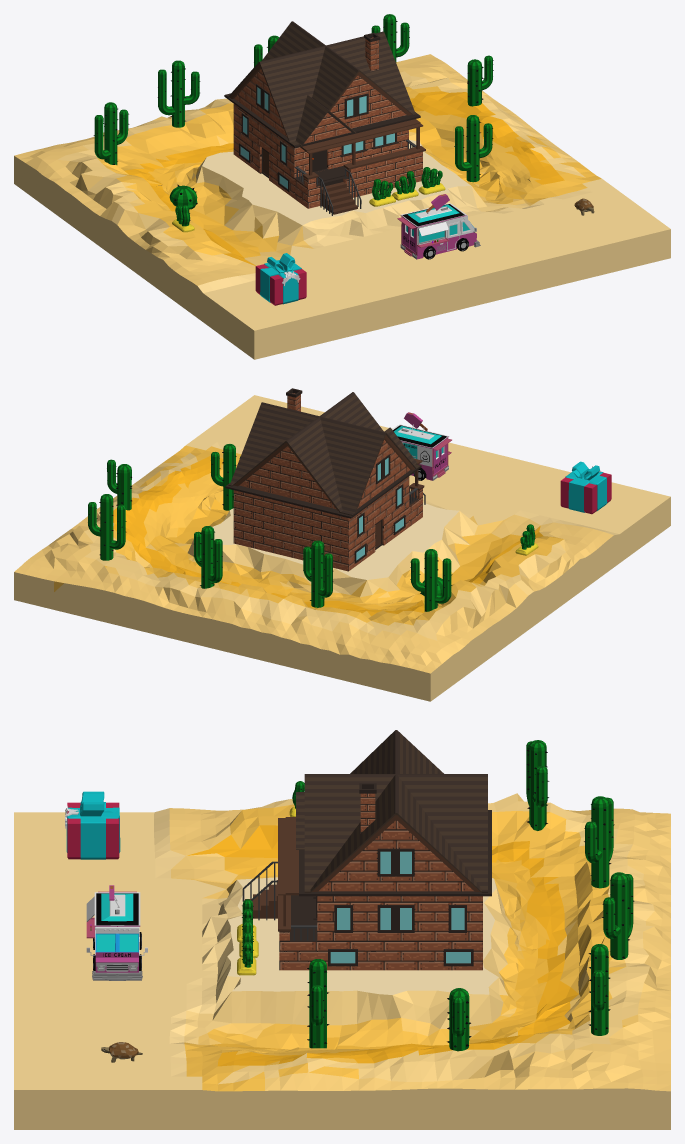
3 views of the same model, one above another, from view 1: azimuth 30°, elevation 25°; view 2: azimuth 150°, elevation 25°; view 3: azimuth 270°, elevation 25° (orthographic). The views are drawn at different scales.
Visible parts, largest first — view 1: Cube.001, Cube.469, VEHICLES_ICE_CREAM_TRUCK, OBJRANDOM_GIANT_PRESENT, Cylinder.037, Cylinder.044, Cylinder.045, Cylinder.038, Cylinder.042, Cylinder.039, Cylinder.041, Sphere.023 (+1 smaller); view 2: Cube.001, Cube.469, VEHICLES_ICE_CREAM_TRUCK, OBJRANDOM_GIANT_PRESENT, Cylinder.042, Cylinder.045, Cylinder.044, Cylinder.043, Cylinder.037, Cylinder.038; view 3: Cube.001, Cube.469, VEHICLES_ICE_CREAM_TRUCK, OBJRANDOM_GIANT_PRESENT, Cylinder.043, Cylinder.044, Cylinder.045, Cylinder.042, Cylinder.037, Cylinder.038, Cylinder.041.
Boxes of the visible parts, bbox=[...] form: Cube.001: bbox=[14, 54, 670, 359]; Cube.469: bbox=[224, 21, 425, 215]; VEHICLES_ICE_CREAM_TRUCK: bbox=[397, 194, 480, 259]; OBJRANDOM_GIANT_PRESENT: bbox=[255, 253, 306, 305]; Cylinder.037: bbox=[454, 115, 493, 182]; Cylinder.044: bbox=[157, 60, 200, 127]; Cylinder.045: bbox=[93, 102, 129, 164]; Cylinder.038: bbox=[467, 55, 493, 106]; Cylinder.042: bbox=[371, 14, 409, 62]; Cylinder.039: bbox=[369, 179, 395, 206]; Cylinder.041: bbox=[418, 167, 445, 194]; Sphere.023: bbox=[169, 184, 197, 209]; Cube.001: bbox=[14, 395, 670, 701]; Cube.469: bbox=[225, 388, 425, 571]; VEHICLES_ICE_CREAM_TRUCK: bbox=[392, 412, 451, 480]; OBJRANDOM_GIANT_PRESENT: bbox=[560, 461, 611, 514]; Cylinder.042: bbox=[88, 494, 126, 560]; Cylinder.045: bbox=[410, 549, 452, 611]; Cylinder.044: bbox=[303, 540, 333, 607]; Cylinder.043: bbox=[193, 526, 222, 588]; Cylinder.037: bbox=[211, 444, 240, 510]; Cylinder.038: bbox=[107, 459, 131, 510]; Cube.001: bbox=[14, 793, 670, 1129]; Cube.469: bbox=[242, 730, 491, 970]; VEHICLES_ICE_CREAM_TRUCK: bbox=[86, 885, 147, 980]; OBJRANDOM_GIANT_PRESENT: bbox=[65, 791, 120, 859]; Cylinder.043: bbox=[602, 872, 634, 959]; Cylinder.044: bbox=[584, 796, 614, 888]; Cylinder.045: bbox=[526, 740, 549, 830]; Cylinder.042: bbox=[588, 944, 610, 1035]; Cylinder.037: bbox=[307, 959, 329, 1048]; Cylinder.038: bbox=[447, 988, 471, 1051]; Cylinder.041: bbox=[237, 932, 256, 975].
Size of the model in its own units: 4002 by 1577 by 4001.
38 materials, 4 textured.
